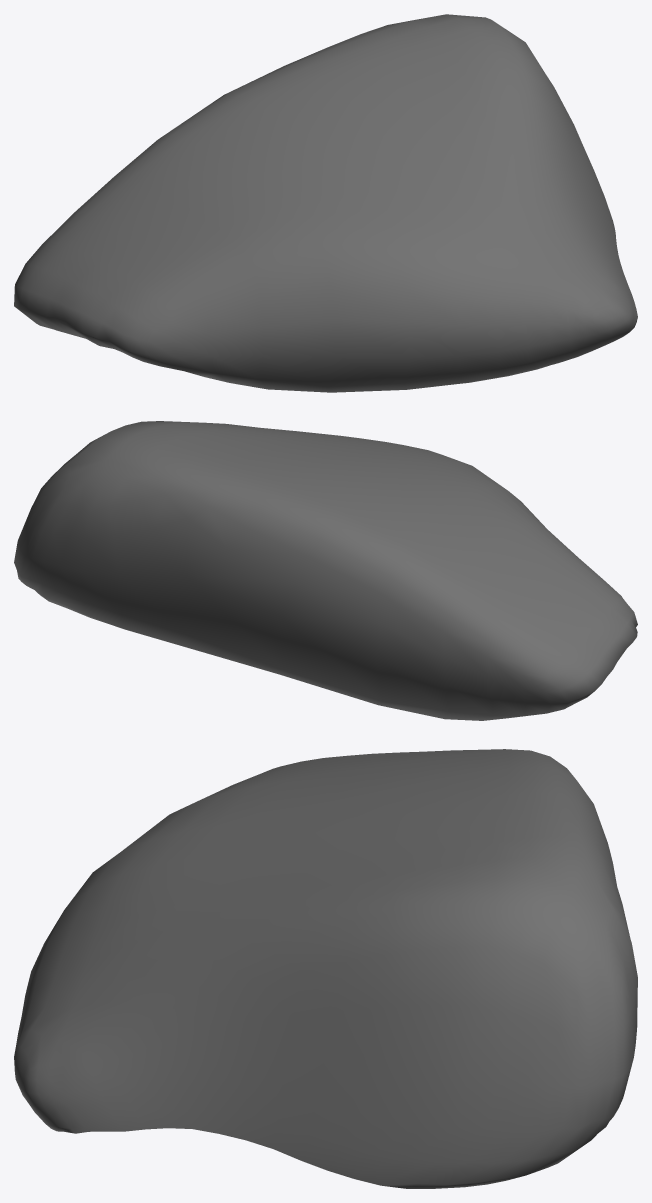
The model's file is rock_1.fbx.
3 renders of one model, top to bottom at view 1: azimuth 30°, elevation 25°; view 2: azimuth 150°, elevation 25°; view 3: azimuth 270°, elevation 25°, orthographic. The views are drawn at different scales.
Visible parts, largest first — view 1: rock_1; view 2: rock_1; view 3: rock_1.
Boxes of the visible parts, x1,y1,x2,y2 form: rock_1: (14,14,637,392); rock_1: (14,421,637,720); rock_1: (14,749,637,1188).
Size of the model in its own units: 44.43 by 16.14 by 30.59.
